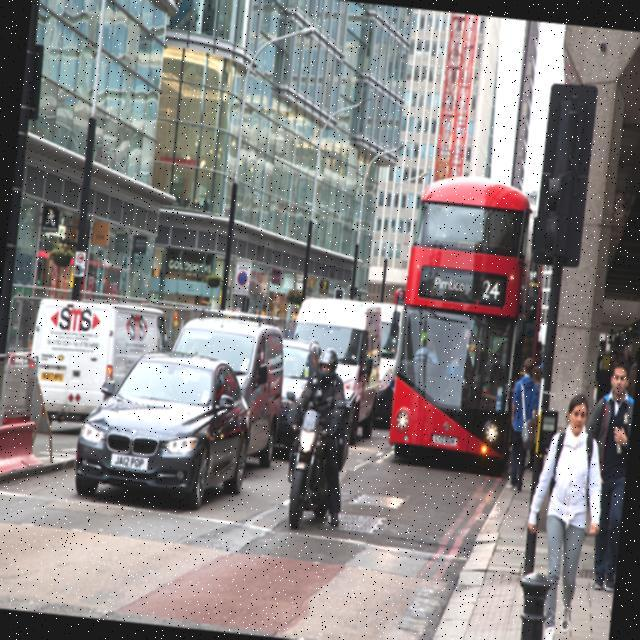fire_hydrant: (509, 567, 553, 640)
